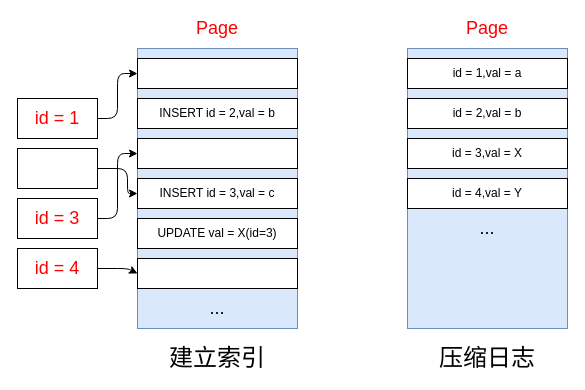
This 585x390 diagram has some shape labels left out. Here are the shapes that lost their labels. From the top down, the centre of each, then its label:
At point (217, 73): "INSERT id = 1,val = a".
At point (57, 168): "id = 2".
At point (217, 153): "DELETE id = 4".
At point (217, 273): "UPDATE val = Y(id=4)".
